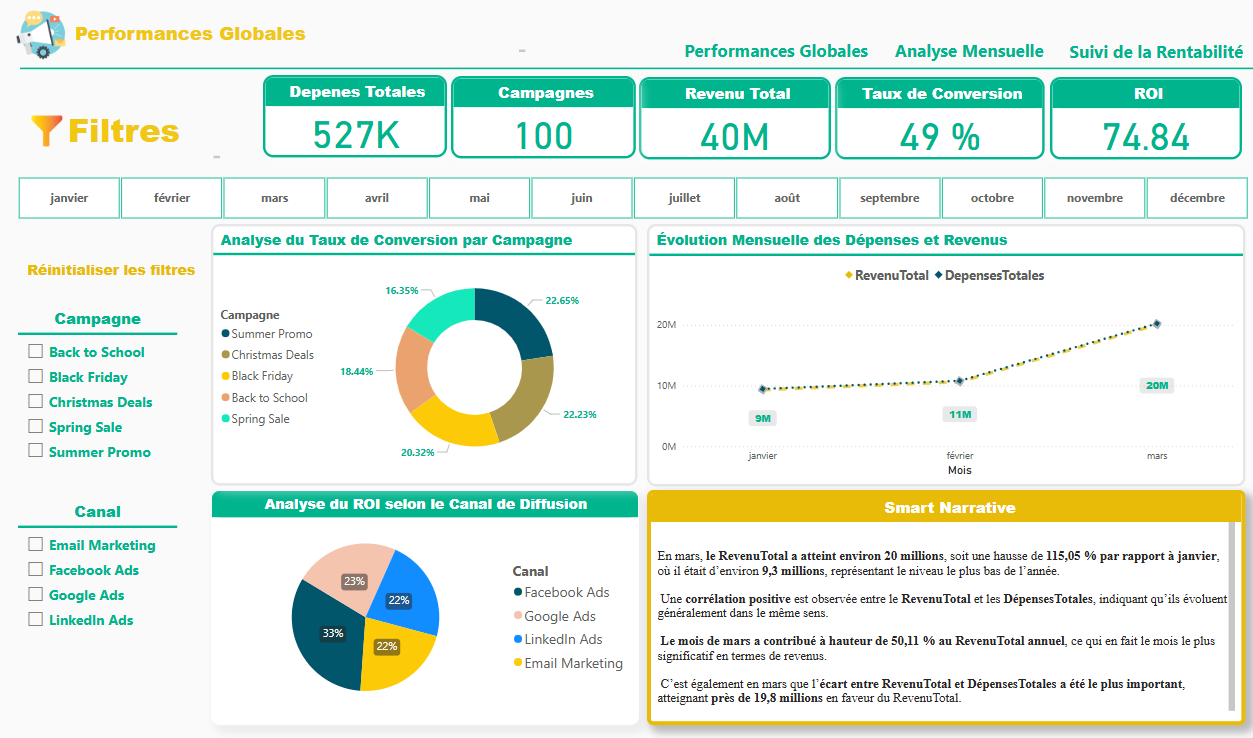

The dashboard page shown, as its layout file describes it:
{"tool":"powerbi","page":{"name":"Performances Globales","canvas":[1600,920],"ordinal":0},"visuals":[{"type":"card","title":"Taux de Conversion","fields":{"Values":["marketing_campaigns.TauxConversion"]},"box":[1046.7,94,262.1,103.3],"z":0},{"type":"textbox","title":"Performances Globales","box":[91,23.1,573.5,44.7],"z":1000},{"type":"card","title":"ROI","fields":{"Values":["marketing_campaigns.ROI"]},"box":[1315,94,240.5,103.3],"z":2000},{"type":"card","title":"Revenu Total","fields":{"Values":["marketing_campaigns.RevenuTotal"]},"box":[801.6,94,240.5,103.3],"z":3000},{"type":"card","title":"Depenes Totales","fields":{"Values":["marketing_campaigns.DepensesTotales"]},"box":[331.4,91,229.7,103.3],"z":4000},{"type":"card","title":"Campagnes","fields":{"Values":["marketing_campaigns.NombreCampagnes"]},"box":[565.8,92.5,231.2,103.3],"z":5000},{"type":"pieChart","title":"Analyse du ROI selon le Canal de Diffusion","fields":{"Category":["marketing_campaigns.Channel"],"Y":["marketing_campaigns.ROI"]},"box":[266.7,610.5,534.9,294.4],"z":6000},{"type":"donutChart","title":"Analyse du Taux de Conversion par Campagne","fields":{"Category":["marketing_campaigns.Campaign"],"Y":["marketing_campaigns.TauxConversion"]},"box":[266.7,277.5,533.4,326.8],"z":7000},{"type":"actionButton","box":[829.2,41.5,287.7,38.5],"z":8000},{"type":"actionButton","box":[1112.3,40,203.1,40],"z":9000},{"type":"actionButton","box":[1326.2,40,243.1,41.5],"z":10000},{"type":"textbox","title":"Filtres","box":[32.4,131,249.7,69.4],"z":11000},{"type":"image","box":[23.1,134.1,77.1,55.5],"z":12000},{"type":"slicer","title":"Mois","fields":{"Values":["marketing_campaigns.Date.Variation.Hiérarchie de dates.Mois"]},"box":[0,212.7,1586.3,64.7],"z":13000},{"type":"slicer","title":"Campagne","fields":{"Values":["marketing_campaigns.Campaign"]},"box":[24.7,380.8,198.9,223.5],"z":14000},{"type":"slicer","title":"Canal","fields":{"Values":["marketing_campaigns.Channel"]},"box":[24.7,622.8,198.9,180.4],"z":15000},{"type":"stackedAreaChart","title":"Évolution Mensuelle des Dépenses et Revenus","fields":{"Category":["marketing_campaigns.Date.Variation.Hiérarchie de dates.Mois"],"Y":["marketing_campaigns.RevenuTotal","marketing_campaigns.DepensesTotales"]},"box":[810.9,277.5,747.7,328.4],"z":16000},{"type":"shape","box":[27.7,80.2,1547.7,6.2],"z":17000},{"type":"image","box":[17,0,72.5,81.7],"z":18000},{"type":"textbox","title":"Smart Narrative","box":[811,610,748,294],"z":20000},{"type":"actionButton","box":[17,305.2,248.2,57],"z":21000}]}

Visuals, with their boxes in screenshot pixels (x1, y1, x2, y2), scaled from the page's 1600x920 canvas onto the 1253x738 screenshot:
"Taux de Conversion" card: box=[820, 75, 1025, 158]
"Performances Globales" textbox: box=[71, 19, 520, 54]
"ROI" card: box=[1030, 75, 1218, 158]
"Revenu Total" card: box=[628, 75, 816, 158]
"Depenes Totales" card: box=[260, 73, 439, 156]
"Campagnes" card: box=[443, 74, 624, 157]
"Analyse du ROI selon le Canal de Diffusion" pieChart: box=[209, 490, 628, 726]
"Analyse du Taux de Conversion par Campagne" donutChart: box=[209, 223, 627, 485]
actionButton: box=[649, 33, 875, 64]
actionButton: box=[871, 32, 1030, 64]
actionButton: box=[1039, 32, 1229, 65]
"Filtres" textbox: box=[25, 105, 221, 161]
image: box=[18, 108, 78, 152]
"Mois" slicer: box=[0, 171, 1242, 223]
"Campagne" slicer: box=[19, 305, 175, 485]
"Canal" slicer: box=[19, 500, 175, 644]
"Évolution Mensuelle des Dépenses et Revenus" stackedAreaChart: box=[635, 223, 1221, 486]
shape: box=[22, 64, 1234, 69]
image: box=[13, 0, 70, 66]
"Smart Narrative" textbox: box=[635, 489, 1221, 725]
actionButton: box=[13, 245, 208, 291]
